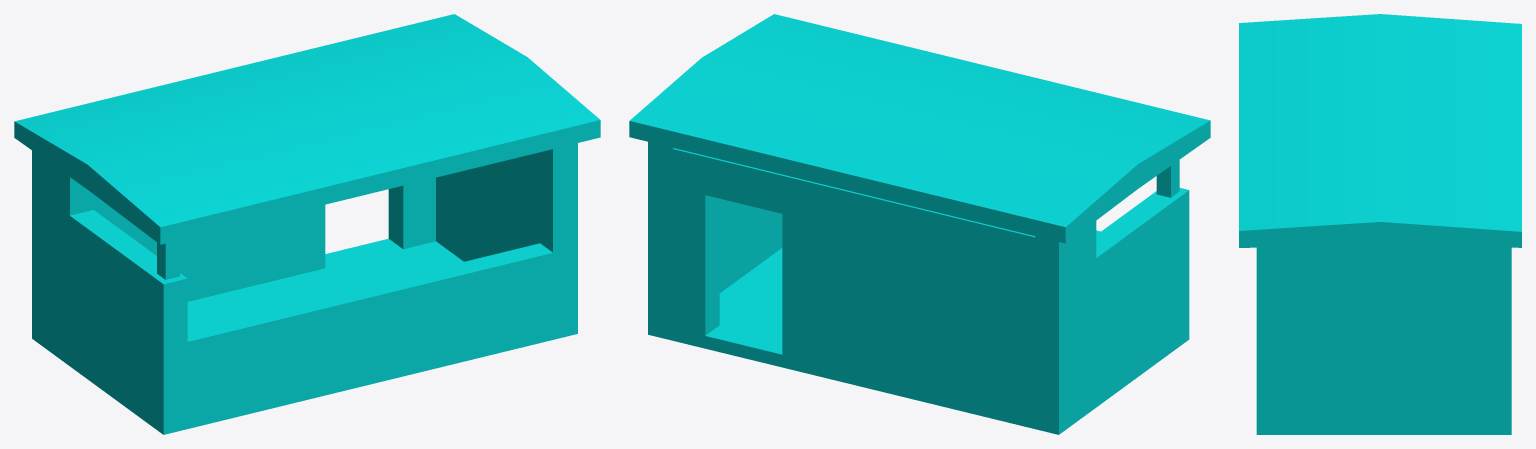
File: SM_Bld_Building_12_Collision.fbx
3 renders of one model, left to right at view 1: azimuth 30°, elevation 25°; view 2: azimuth 150°, elevation 25°; view 3: azimuth 270°, elevation 25°, orthographic. The views are drawn at different scales.
Visible parts, largest first — view 1: SM_Bld_Building_12_Collision; view 2: SM_Bld_Building_12_Collision; view 3: SM_Bld_Building_12_Collision.
Boxes of the visible parts, x1,y1,x2,y2 form: SM_Bld_Building_12_Collision: (14,14,600,434); SM_Bld_Building_12_Collision: (629,14,1210,434); SM_Bld_Building_12_Collision: (1239,14,1521,434).
Bounding box in the file's own units: 675 × 332 × 388.
